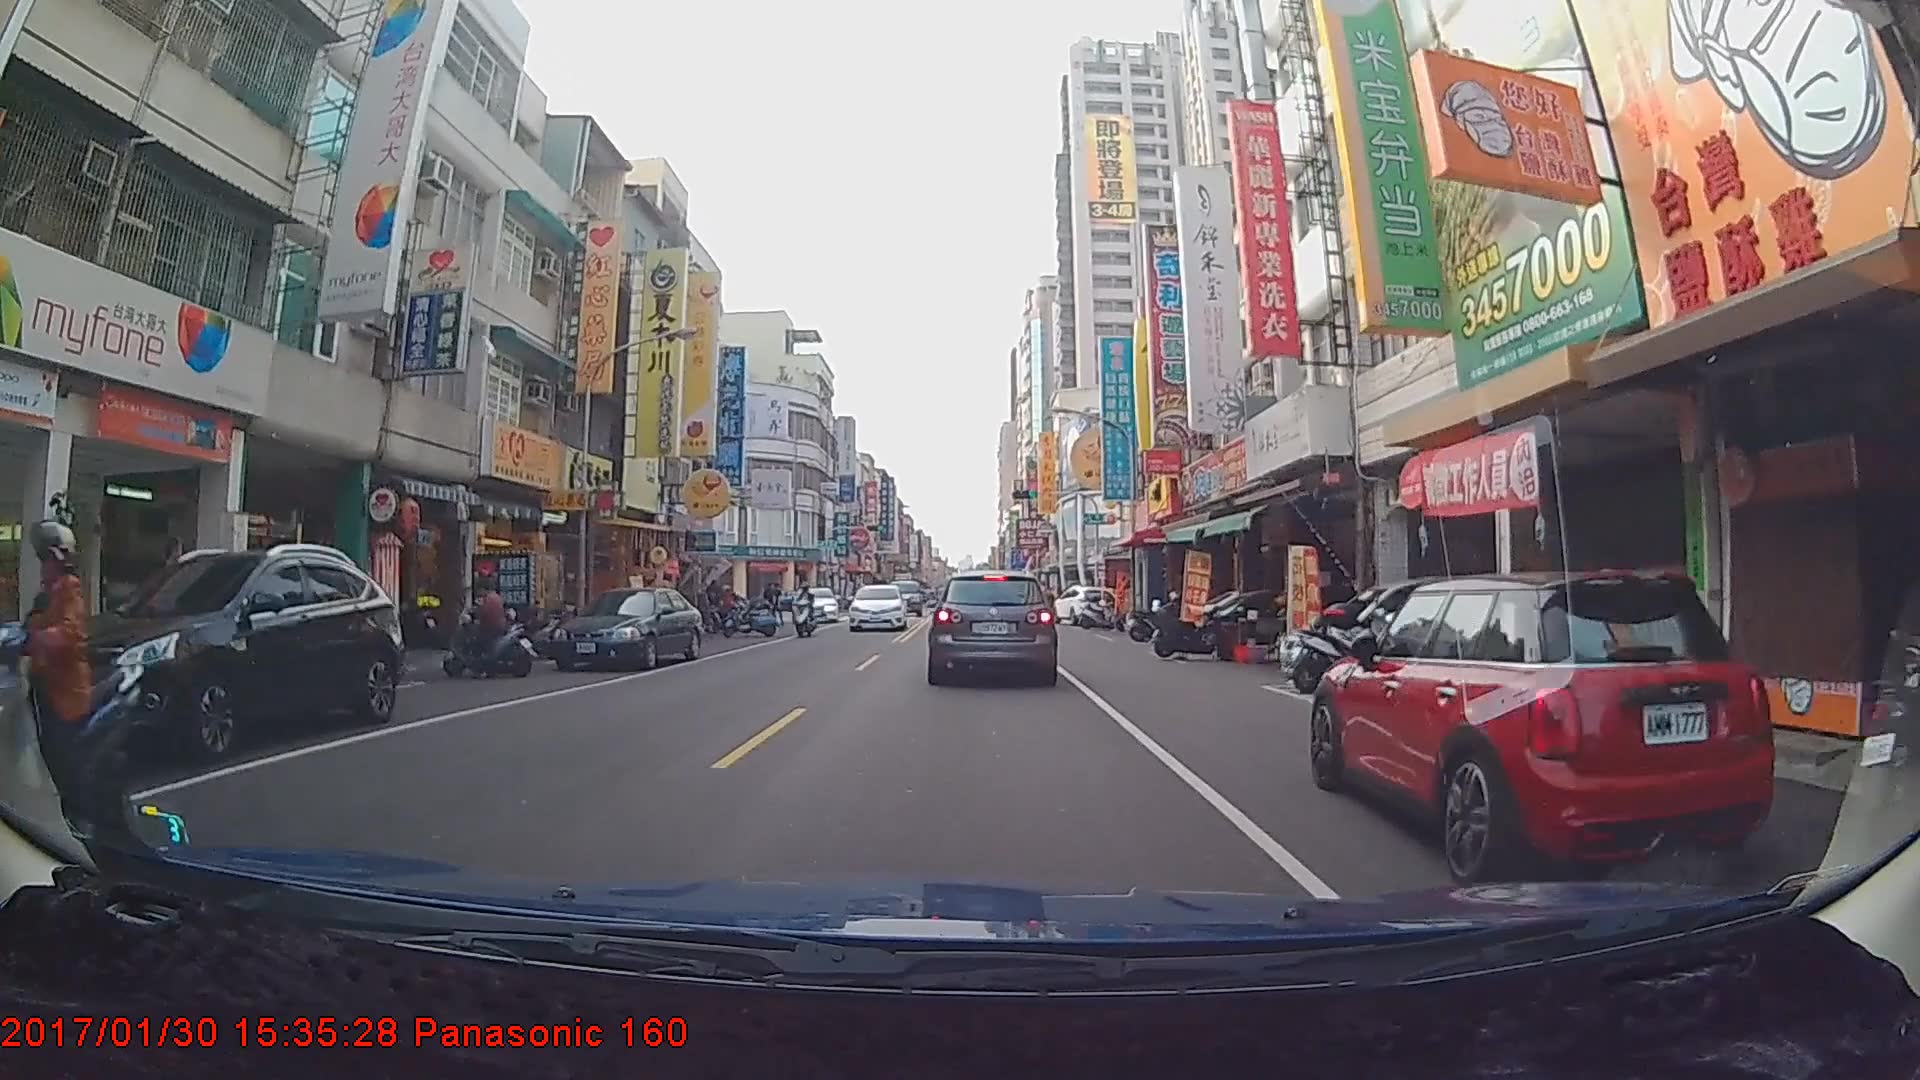rider: (1, 520, 156, 862), (438, 570, 549, 683), (789, 584, 818, 638)
vehicle: (1307, 568, 1776, 889), (38, 547, 401, 766), (927, 567, 1056, 683), (546, 588, 704, 668), (1050, 581, 1117, 626), (846, 583, 906, 630), (790, 581, 838, 619)
